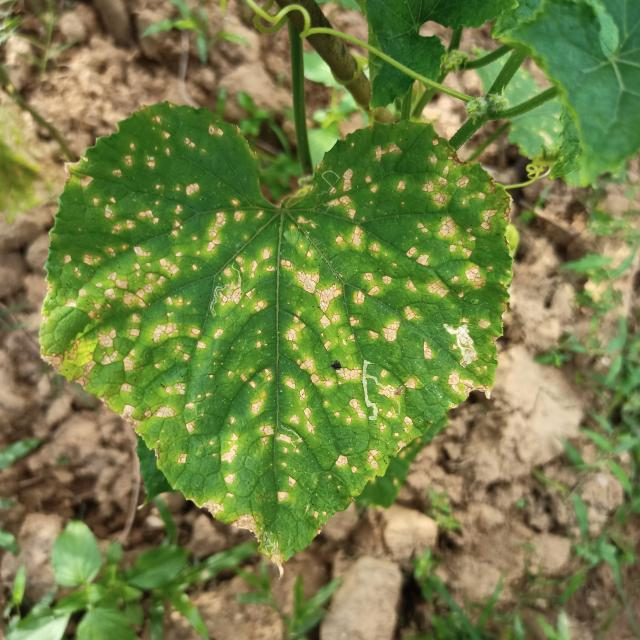disease_cucumber: (61, 122, 500, 516)
